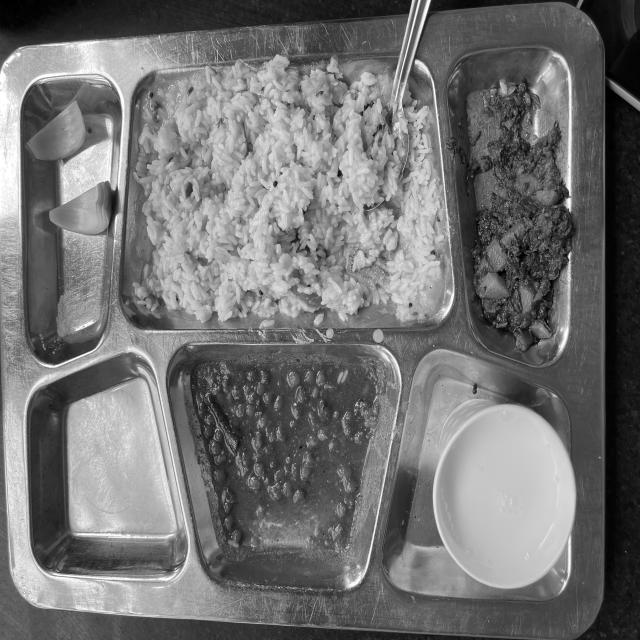50-Food-Left: (9, 57, 595, 615)
